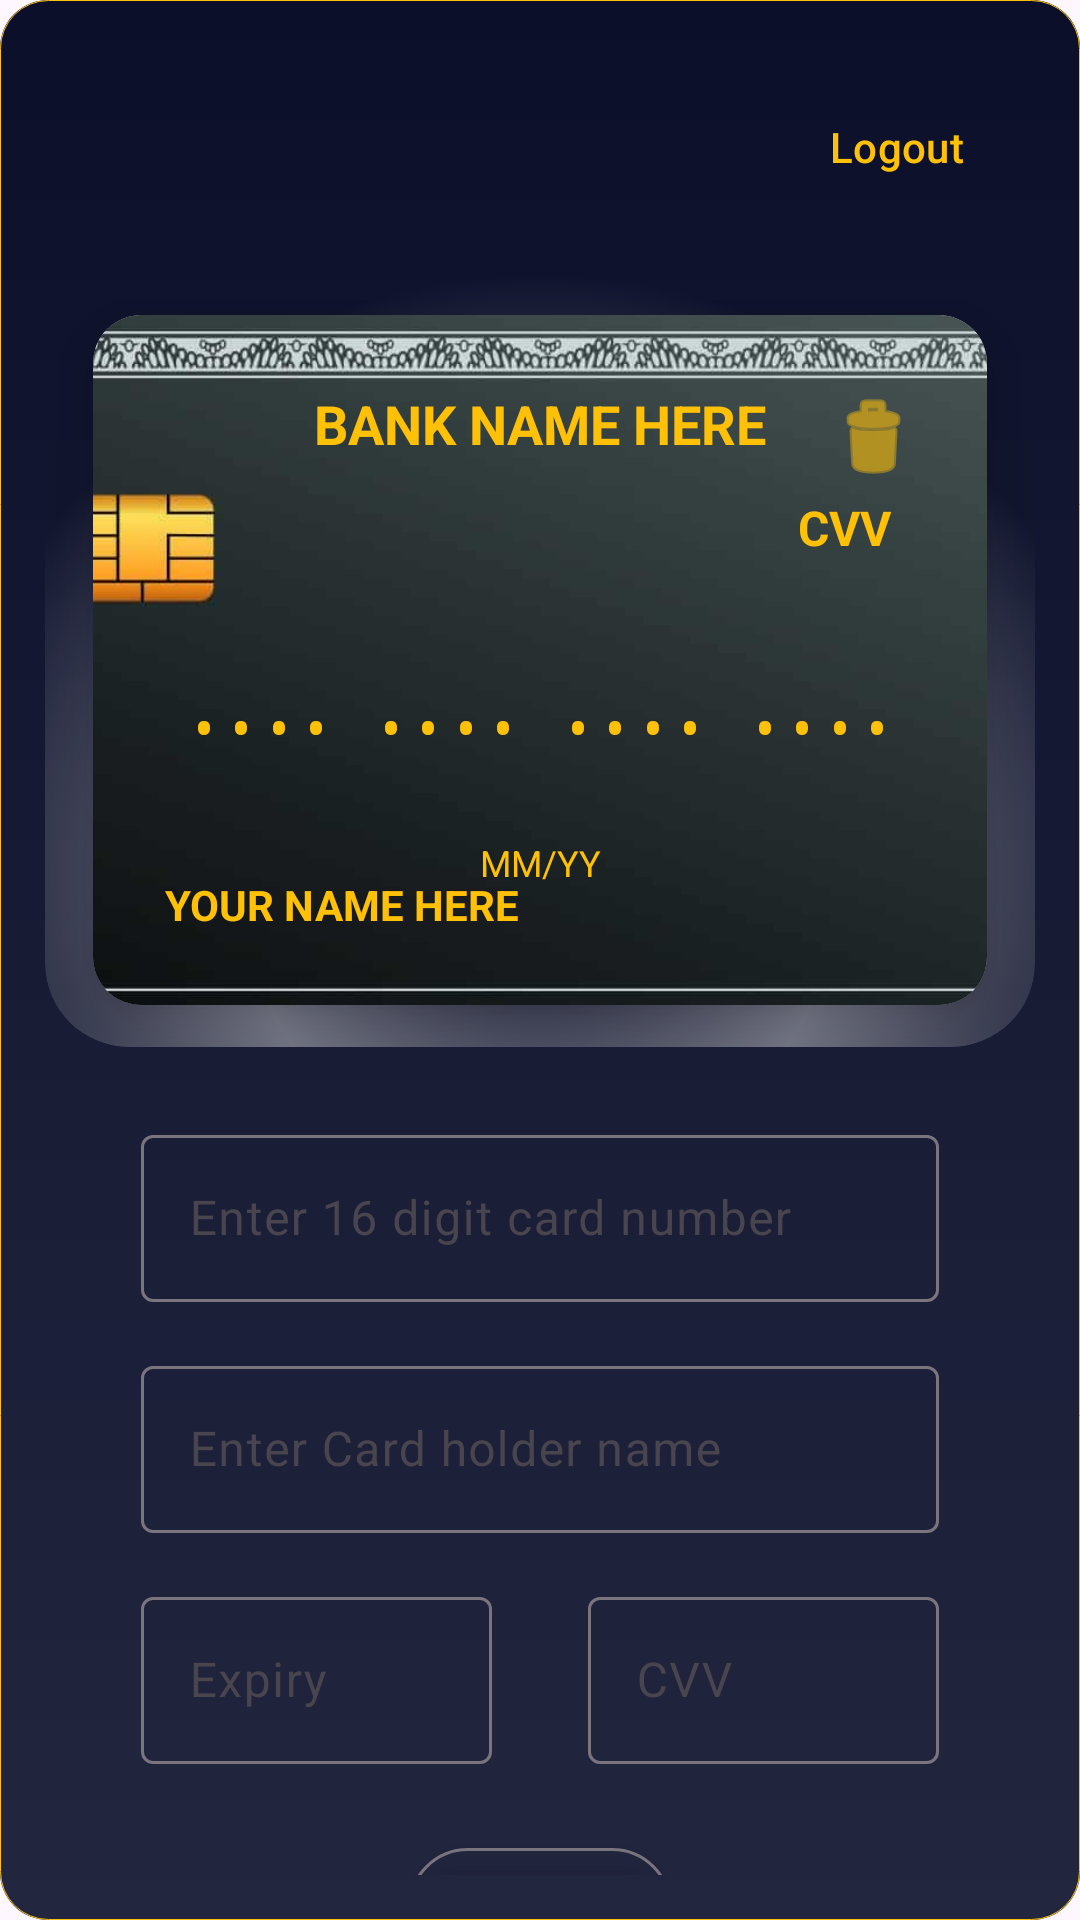

Locate icon controls on the screen. Image size 1080×1920, boxes as bbox=(x1, y1, x2, y2).
Delete Card: bbox=(846, 399, 901, 474)
